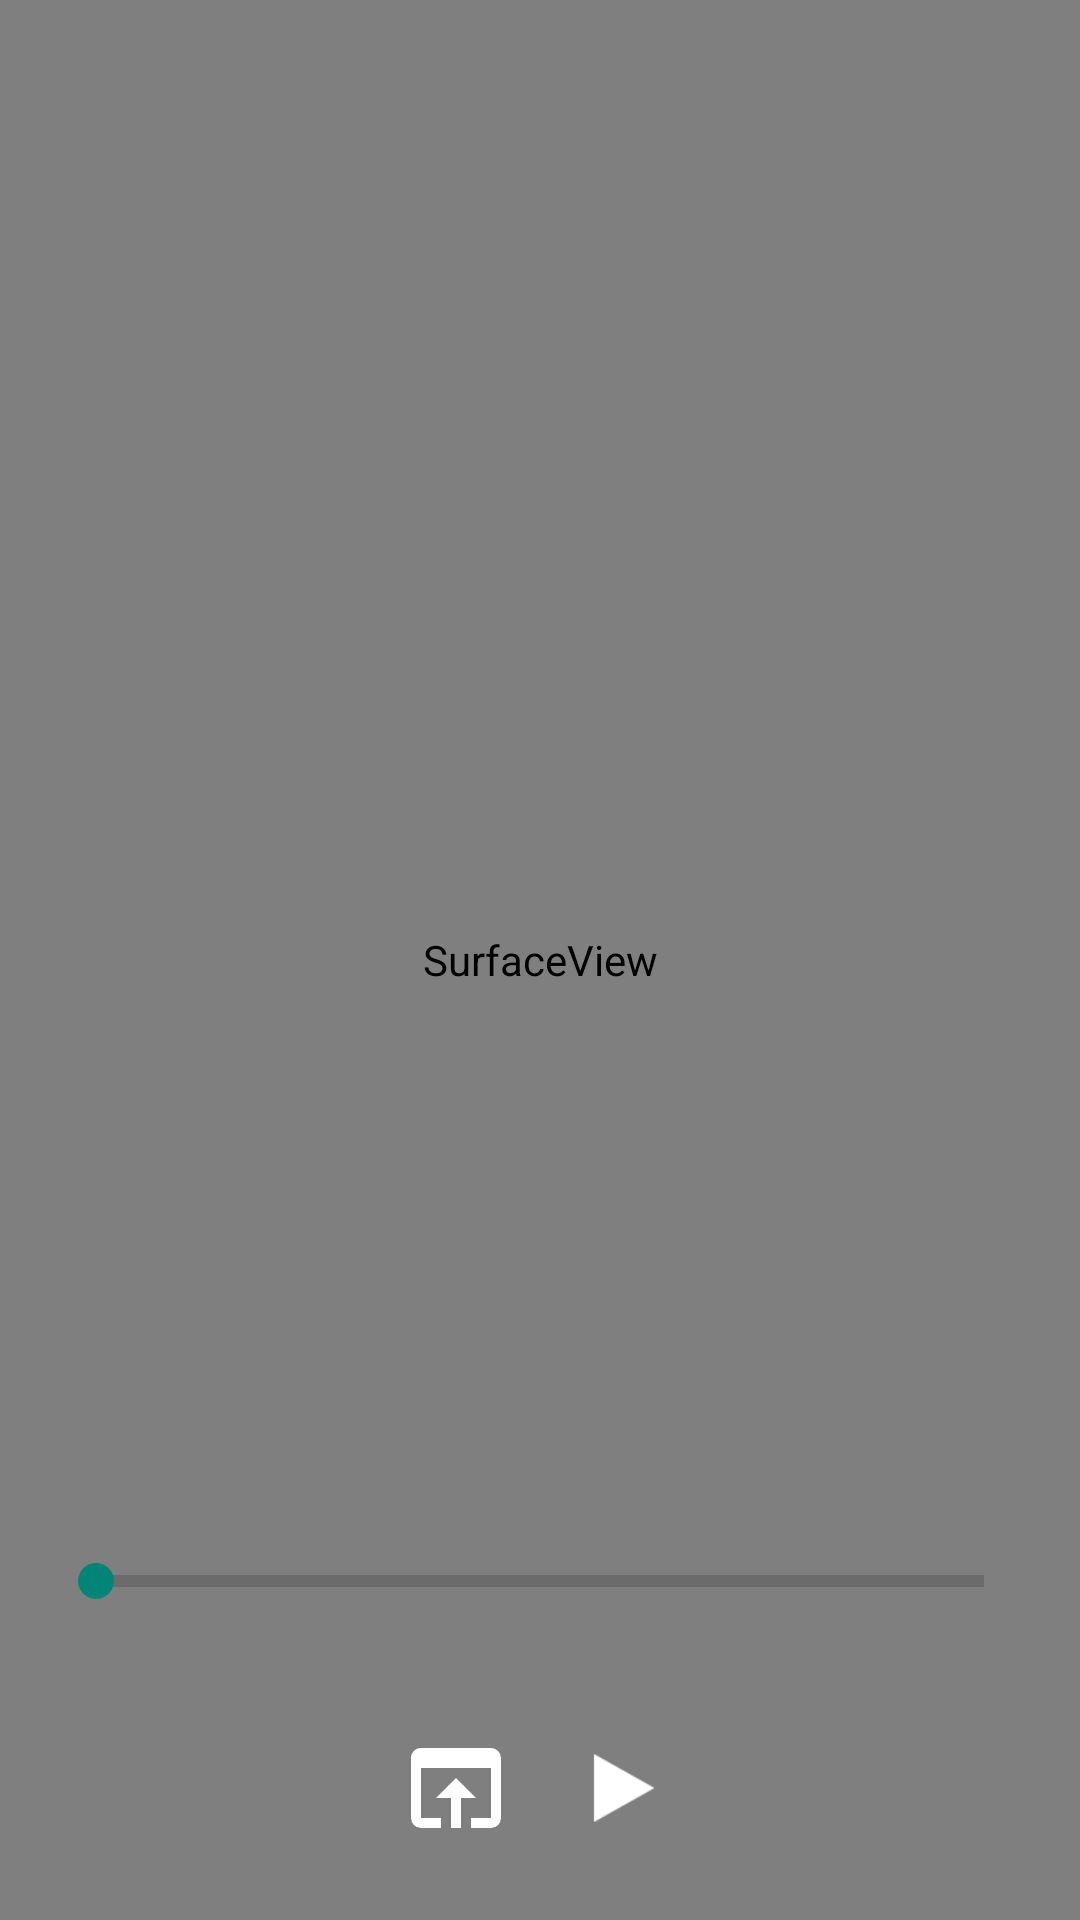

Point at icon controls on the screen. Image size 1080 × 1920, points as point (x, y).
open: point (456, 1788)
play: point (624, 1788)
